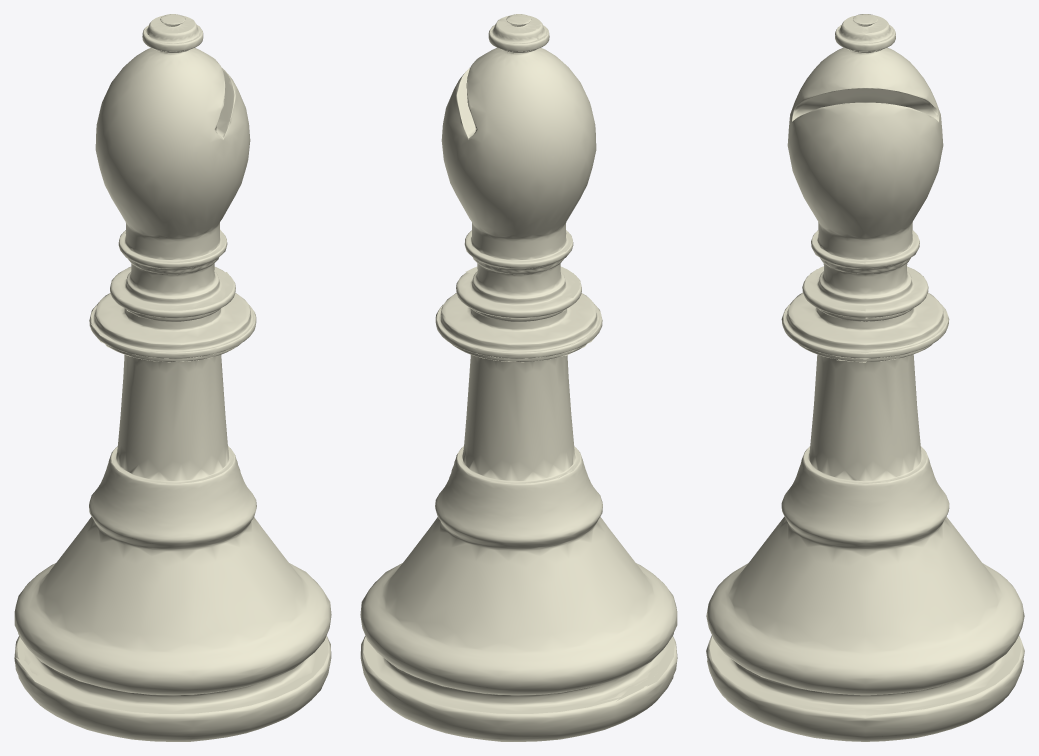
The picture shows the model from 3 angles, left to right: view 1: azimuth 30°, elevation 25°; view 2: azimuth 150°, elevation 25°; view 3: azimuth 270°, elevation 25°; orthographic projection.
Visible parts, largest first — view 1: Bishop_03_2; view 2: Bishop_03_2; view 3: Bishop_03_2.
Boxes of the visible parts, x1,y1,x2,y2 form: Bishop_03_2: (14, 14, 331, 741); Bishop_03_2: (360, 14, 677, 741); Bishop_03_2: (706, 14, 1024, 741).
Size of the model in its own units: 0.2952 by 0.6796 by 0.2939.
